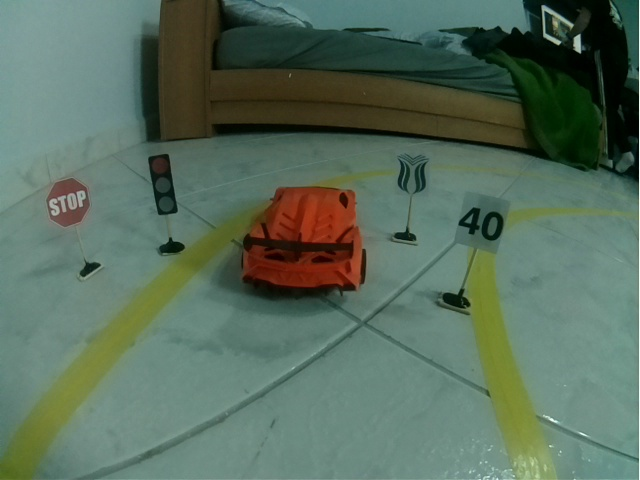Lambo: (240, 184, 370, 301)
Red Traffic Light: (146, 154, 178, 216)
Speed Limit 40: (454, 190, 511, 256)
Stop: (44, 176, 92, 230)
Subu: (394, 146, 431, 198)
